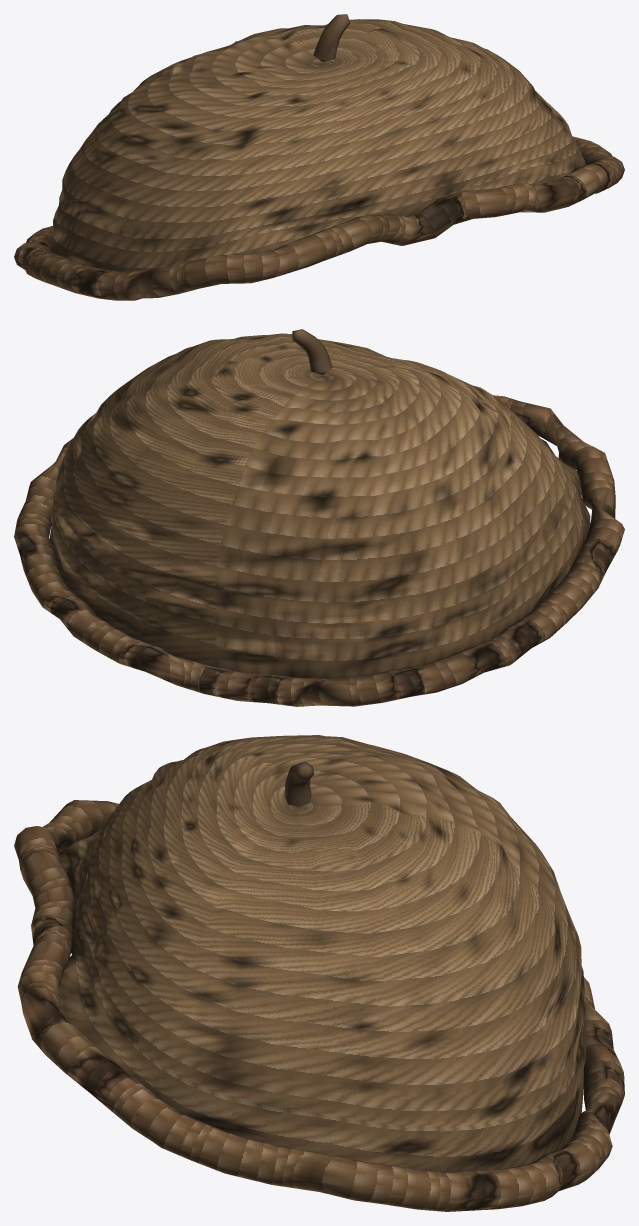
The model's file is acorn.glb.
The picture shows the model from 3 angles, top to bottom: view 1: azimuth 30°, elevation 25°; view 2: azimuth 150°, elevation 25°; view 3: azimuth 270°, elevation 25°; orthographic projection. The views are drawn at different scales.
Parts seen in each view (by area): view 1: acorn_cup, acorn_rim, acorn_stem; view 2: acorn_cup, acorn_rim, acorn_stem; view 3: acorn_cup, acorn_rim, acorn_stem.
Part boxes in pixels (x1,y1,x2,y2): acorn_cup: (50,19,586,271); acorn_rim: (14,136,624,300); acorn_stem: (313,14,349,61); acorn_cup: (49,333,590,678); acorn_rim: (14,395,624,706); acorn_stem: (292,329,332,374); acorn_cup: (59,735,586,1172); acorn_rim: (14,800,624,1211); acorn_stem: (284,761,314,806).
Bounding box in the file's own units: 32.91 × 15.96 × 24.38.
1 material, 1 textured.
